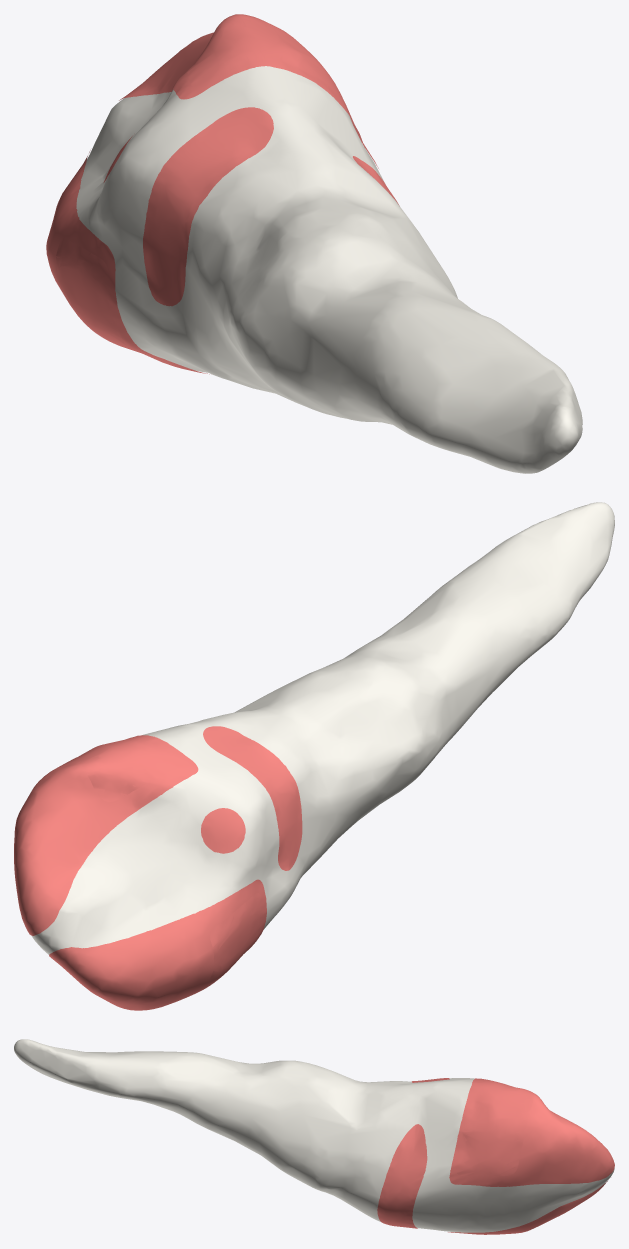
File: tooth_23_FMA55799.glb
3 renders of one model, top to bottom at view 1: azimuth 30°, elevation 25°; view 2: azimuth 150°, elevation 25°; view 3: azimuth 270°, elevation 25°, orthographic. The views are drawn at different scales.
Visible parts, largest first — view 1: tooth_23, class5_lingual, class3_distal, class4_distal, class4_mesial, class3_mesial; view 2: tooth_23, class4_distal, class4_mesial, class5_lingual, class3_distal, class3_mesial, class1_lingual_pit; view 3: tooth_23, class4_distal, class3_distal, class5_facial, class4_mesial.
Part boxes in pixels (<box>): tooth_23: <box>76,66,582,473</box>; class5_lingual: <box>143,107,273,306</box>; class3_distal: <box>187,15,375,162</box>; class4_distal: <box>119,14,378,168</box>; class4_mesial: <box>46,150,209,374</box>; class3_mesial: <box>56,237,200,372</box>; tooth_23: <box>32,502,614,954</box>; class4_distal: <box>14,735,198,935</box>; class4_mesial: <box>49,879,266,1010</box>; class5_lingual: <box>203,726,302,870</box>; class3_distal: <box>49,736,183,801</box>; class3_mesial: <box>195,893,263,993</box>; class1_lingual_pit: <box>201,808,245,853</box>; tooth_23: <box>14,1039,614,1232</box>; class4_distal: <box>449,1078,614,1186</box>; class3_distal: <box>455,1079,535,1175</box>; class5_facial: <box>377,1124,427,1228</box>; class4_mesial: <box>448,1181,607,1234</box>.
Bounding box in the file's own units: 8.81 × 8.85 × 29.65.
